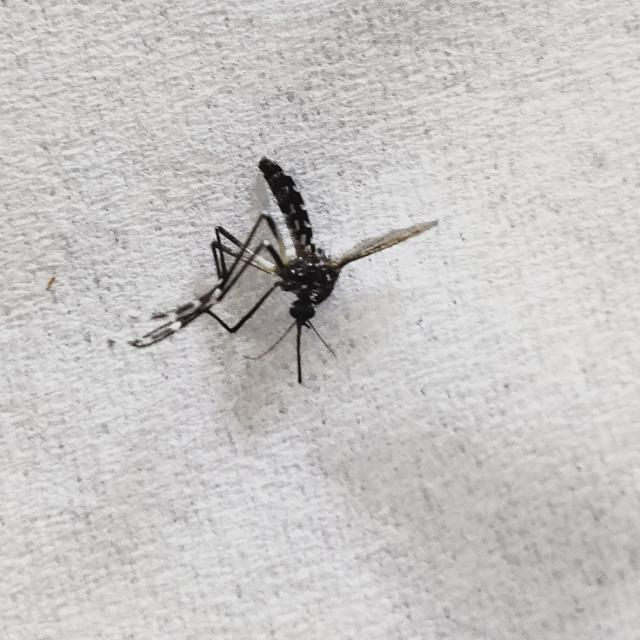albopictus: (128, 136, 426, 388)
